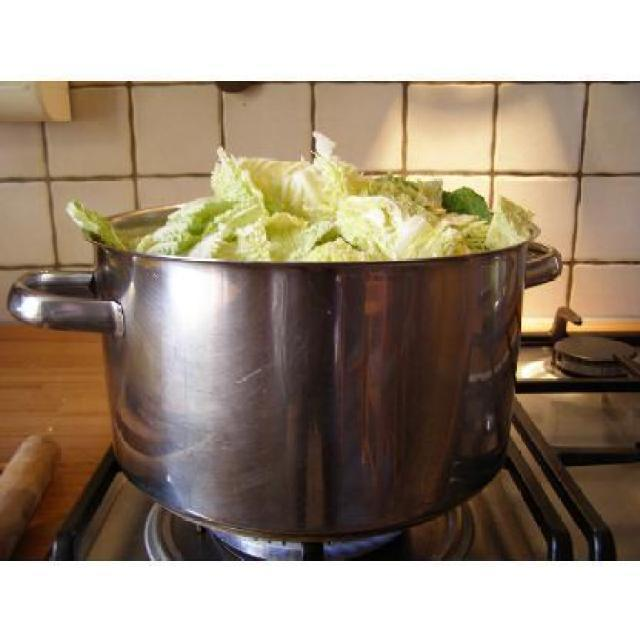Cabbage: (68, 132, 532, 260)
